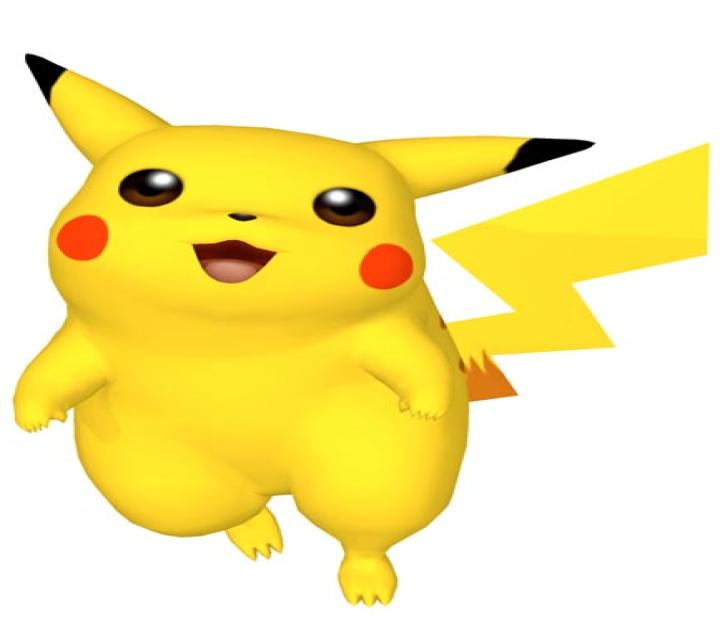Pikachu: (17, 44, 720, 612)
